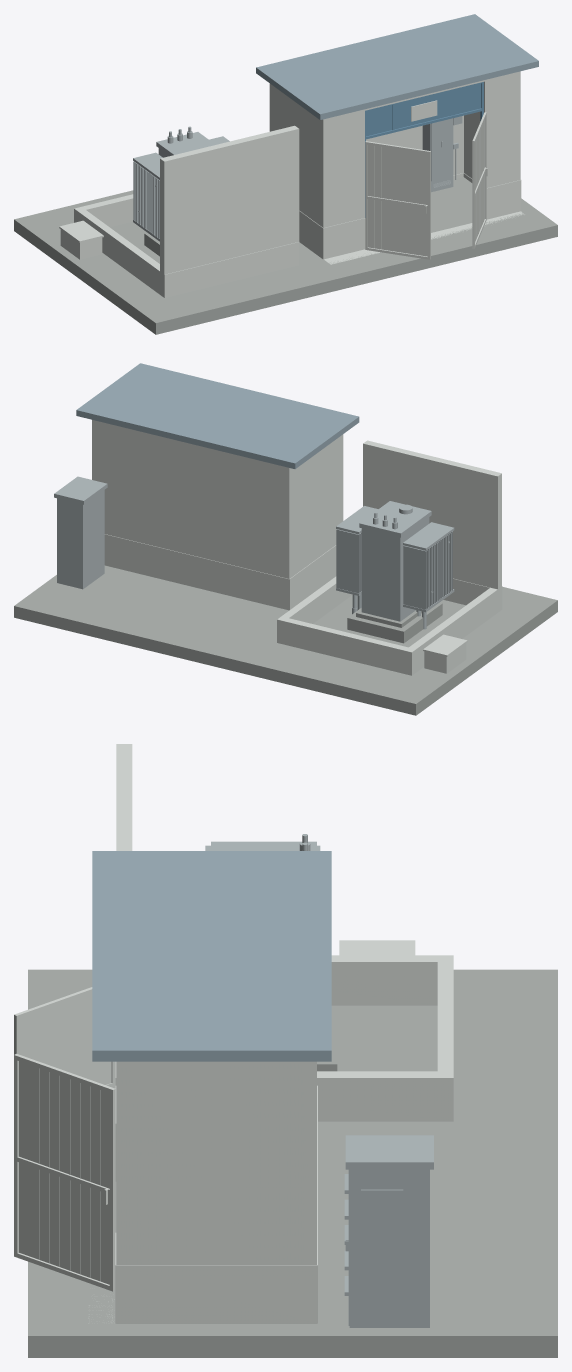
The model's file is cuarto-electrico.glb.
3 renders of one model, top to bottom at view 1: azimuth 30°, elevation 25°; view 2: azimuth 150°, elevation 25°; view 3: azimuth 270°, elevation 25°, orthographic. The views are drawn at different scales.
Visible parts, largest first — view 1: Foundation Slab VOCATUS Electrico - Piso concreto300mm _c976, Basic Wall VOCATUS Electrico - Muro200mm CAD [1240575], Foundation Slab VOCATUS Electrico - Losa cubierta150mm _0c8f, VOCATUS Electrico - Hoja ventilada 1 [1240769], Basic Wall VOCATUS Electrico - Muro200mm CAD [1240579], VOCATUS Electrico - Franja azul exterior [1240757], Basic Wall VOCATUS Electrico - Muro200mm CAD [1240577], VOCATUS Electrico - Marco acceso y montante superior [124076, VOCATUS Electrico - Transformador WEG 2000kVA referenc_23984, Basic Wall VOCATUS Electrico - Pretil azul200mm [1240817], VOCATUS Electrico - Tablero CC02-T02 [1240782], VOCATUS Electrico - Hoja ventilada 2 [1240780] (+6 smaller); view 2: Foundation Slab VOCATUS Electrico - Piso concreto300mm _c976, Basic Wall VOCATUS Electrico - Muro200mm CAD [1240576], Foundation Slab VOCATUS Electrico - Losa cubierta150mm _0c8f, Basic Wall VOCATUS Electrico - Muro200mm CAD [1240575], VOCATUS Electrico - Transformador WEG 2000kVA referenc_23984, VOCATUS Electrico - Franja azul exterior [1240757], Basic Wall VOCATUS Electrico - Muro200mm CAD [1240577], VOCATUS Electrico - Gabinete exterior Transformador480_d40b1, Basic Wall VOCATUS Electrico - Pretil azul200mm [1240833], Basic Wall VOCATUS Electrico - Pretil azul200mm [1240817], VOCATUS Electrico - Base transformador [1240764], Basic Wall VOCATUS Electrico - Pretil azul200mm [1240818] (+1 smaller); view 3: Foundation Slab VOCATUS Electrico - Piso concreto300mm _c976, Foundation Slab VOCATUS Electrico - Losa cubierta150mm _0c8f, Basic Wall VOCATUS Electrico - Muro200mm CAD [1240578], VOCATUS Electrico - Hoja ventilada 2 [1240780], VOCATUS Electrico - Gabinete exterior Transformador480_d40b1, VOCATUS Electrico - Franja azul exterior [1240757], Basic Wall VOCATUS Electrico - Pretil azul200mm [1240818], VOCATUS Electrico - Hoja ventilada 1 [1240769], Basic Wall VOCATUS Electrico - Pretil azul200mm [1240817], Basic Wall VOCATUS Electrico - Muro200mm CAD [1240576], Basic Wall VOCATUS Electrico - Pretil azul200mm [1240833], Basic Wall VOCATUS Electrico - Muro200mm CAD [1240575] (+2 smaller).
Boxes of the visible parts, <box> form: Foundation Slab VOCATUS Electrico - Piso concreto300mm _c976: <box>14,177,557,334</box>; Basic Wall VOCATUS Electrico - Muro200mm CAD [1240575]: <box>160,125,299,297</box>; Foundation Slab VOCATUS Electrico - Losa cubierta150mm _0c8f: <box>256,14,538,119</box>; VOCATUS Electrico - Hoja ventilada 1 [1240769]: <box>365,141,430,259</box>; Basic Wall VOCATUS Electrico - Muro200mm CAD [1240579]: <box>331,73,513,225</box>; VOCATUS Electrico - Franja azul exterior [1240757]: <box>164,180,521,297</box>; Basic Wall VOCATUS Electrico - Muro200mm CAD [1240577]: <box>274,86,330,227</box>; VOCATUS Electrico - Marco acceso y montante superior [124076: <box>365,82,483,217</box>; VOCATUS Electrico - Transformador WEG 2000kVA referenc_23984: <box>133,126,229,241</box>; Basic Wall VOCATUS Electrico - Pretil azul200mm [1240817]: <box>74,207,159,294</box>; VOCATUS Electrico - Tablero CC02-T02 [1240782]: <box>422,118,453,192</box>; VOCATUS Electrico - Hoja ventilada 2 [1240780]: <box>472,112,487,248</box>; Foundation Slab VOCATUS Electrico - Piso concreto300mm _c976: <box>14,565,557,715</box>; Basic Wall VOCATUS Electrico - Muro200mm CAD [1240576]: <box>92,420,293,578</box>; Foundation Slab VOCATUS Electrico - Losa cubierta150mm _0c8f: <box>76,363,359,468</box>; Basic Wall VOCATUS Electrico - Muro200mm CAD [1240575]: <box>363,440,501,612</box>; VOCATUS Electrico - Transformador WEG 2000kVA referenc_23984: <box>336,501,454,621</box>; VOCATUS Electrico - Franja azul exterior [1240757]: <box>104,534,502,610</box>; Basic Wall VOCATUS Electrico - Muro200mm CAD [1240577]: <box>293,434,343,575</box>; VOCATUS Electrico - Gabinete exterior Transformador480_d40b1: <box>54,476,107,589</box>; Basic Wall VOCATUS Electrico - Pretil azul200mm [1240833]: <box>284,618,408,673</box>; Basic Wall VOCATUS Electrico - Pretil azul200mm [1240817]: <box>404,587,497,675</box>; VOCATUS Electrico - Base transformador [1240764]: <box>347,602,442,643</box>; Basic Wall VOCATUS Electrico - Pretil azul200mm [1240818]: <box>277,576,352,644</box>; Foundation Slab VOCATUS Electrico - Piso concreto300mm _c976: <box>28,969,557,1357</box>; Foundation Slab VOCATUS Electrico - Losa cubierta150mm _0c8f: <box>92,851,331,1061</box>; Basic Wall VOCATUS Electrico - Muro200mm CAD [1240578]: <box>116,1061,300,1265</box>; VOCATUS Electrico - Hoja ventilada 2 [1240780]: <box>14,1053,115,1291</box>; VOCATUS Electrico - Gabinete exterior Transformador480_d40b1: <box>344,1135,433,1327</box>; VOCATUS Electrico - Franja azul exterior [1240757]: <box>115,1062,317,1323</box>; Basic Wall VOCATUS Electrico - Pretil azul200mm [1240818]: <box>317,1071,453,1121</box>; VOCATUS Electrico - Hoja ventilada 1 [1240769]: <box>14,987,115,1088</box>; Basic Wall VOCATUS Electrico - Pretil azul200mm [1240817]: <box>331,955,453,1005</box>; Basic Wall VOCATUS Electrico - Muro200mm CAD [1240576]: <box>301,1061,316,1265</box>; Basic Wall VOCATUS Electrico - Pretil azul200mm [1240833]: <box>437,962,453,1071</box>; Basic Wall VOCATUS Electrico - Muro200mm CAD [1240575]: <box>116,744,132,850</box>.
Size of the model in its own units: 10.8 by 4.2 by 6.77.
